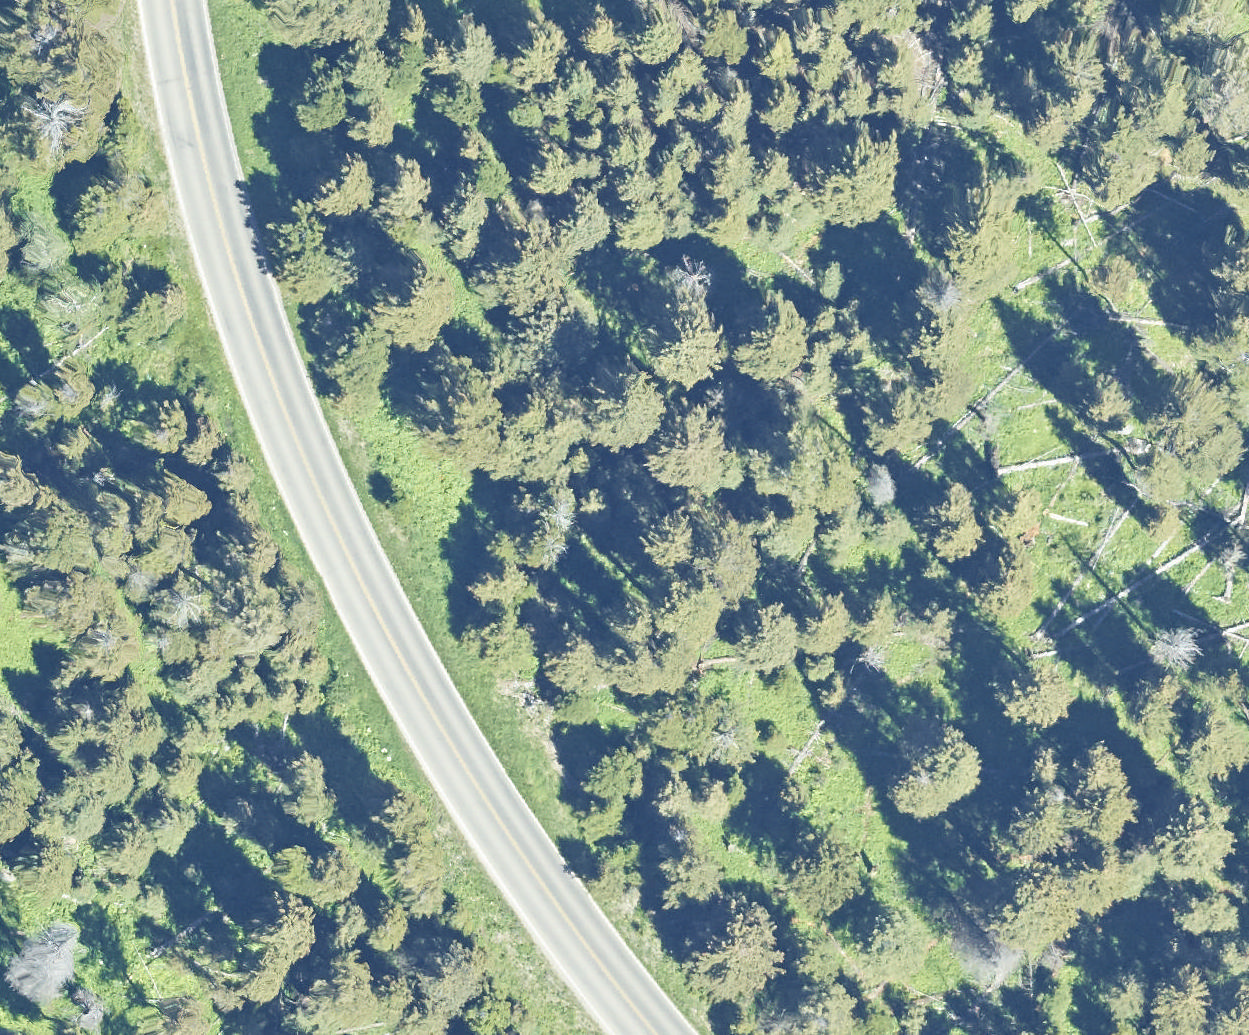Tree: (697, 899, 786, 1001), (805, 135, 898, 230), (725, 283, 809, 378), (490, 205, 568, 304), (1158, 793, 1240, 878), (415, 365, 491, 450), (376, 269, 452, 346), (592, 373, 666, 446), (658, 409, 722, 490), (947, 211, 1014, 287), (1158, 376, 1229, 447), (652, 312, 721, 381), (319, 322, 385, 390), (698, 513, 762, 583), (437, 11, 497, 83), (858, 905, 924, 970), (788, 841, 854, 905), (86, 616, 146, 683), (1010, 659, 1071, 722), (313, 150, 373, 213), (787, 927, 845, 991), (975, 557, 1036, 617), (1191, 710, 1249, 774), (873, 380, 924, 451), (1152, 964, 1205, 1032), (502, 422, 563, 481), (641, 511, 699, 574), (67, 189, 129, 245), (795, 593, 850, 653), (739, 612, 797, 668), (922, 736, 978, 793), (753, 448, 813, 501), (381, 154, 434, 214), (273, 1, 335, 52), (909, 308, 960, 370), (967, 934, 1024, 989), (287, 247, 349, 298), (695, 700, 745, 762), (660, 259, 719, 311), (520, 143, 575, 198), (1149, 623, 1202, 680), (395, 834, 446, 892), (419, 940, 474, 991), (1103, 968, 1149, 1028), (630, 9, 683, 62), (775, 501, 821, 562), (1077, 852, 1127, 907), (52, 575, 101, 631), (1138, 450, 1188, 503), (713, 145, 760, 200), (111, 819, 157, 876), (671, 859, 723, 908), (991, 495, 1033, 554), (376, 788, 431, 833), (614, 206, 665, 254), (562, 192, 610, 243), (1014, 803, 1064, 849), (542, 641, 592, 688), (849, 597, 898, 644), (965, 156, 1016, 201), (646, 701, 694, 749), (40, 523, 89, 569), (281, 589, 324, 642), (1081, 372, 1123, 425), (522, 518, 566, 567), (246, 587, 287, 640), (757, 82, 801, 132), (1005, 900, 1060, 940), (334, 956, 376, 1008), (822, 455, 862, 508), (580, 795, 620, 848), (25, 845, 72, 891), (481, 616, 526, 664), (348, 33, 389, 84), (1085, 792, 1132, 837), (705, 23, 749, 71), (1029, 102, 1073, 149), (938, 518, 981, 565), (443, 84, 488, 130), (333, 1, 389, 37), (1083, 749, 1130, 792), (159, 754, 205, 797), (485, 343, 528, 391), (369, 907, 417, 950), (518, 38, 559, 87), (757, 29, 799, 77), (276, 906, 315, 956), (242, 527, 284, 572), (709, 197, 750, 244), (51, 374, 97, 416), (161, 998, 212, 1035), (586, 750, 630, 793), (1207, 80, 1249, 125), (34, 102, 76, 147), (279, 207, 325, 249), (589, 844, 626, 896), (147, 403, 188, 449), (1209, 423, 1245, 474), (894, 768, 934, 815), (2, 456, 36, 509), (90, 759, 134, 801), (867, 521, 908, 565), (98, 710, 137, 756), (283, 793, 332, 830), (55, 707, 97, 749), (714, 81, 752, 127), (582, 12, 619, 59), (1133, 835, 1165, 889), (1099, 161, 1139, 202), (548, 401, 587, 444), (764, 217, 807, 255), (521, 294, 559, 337), (1060, 51, 1104, 89), (156, 529, 193, 573), (662, 818, 701, 860), (1093, 258, 1133, 300), (149, 800, 189, 841), (19, 233, 56, 277), (1175, 132, 1212, 176), (307, 59, 347, 100), (675, 52, 716, 91), (474, 161, 514, 201), (823, 529, 862, 569), (287, 747, 328, 786), (18, 378, 53, 422), (1209, 889, 1241, 938), (358, 109, 398, 147), (170, 484, 217, 517), (470, 995, 513, 1030), (538, 481, 582, 516), (1215, 990, 1249, 1035), (817, 262, 857, 301), (843, 83, 885, 119), (558, 688, 601, 723), (239, 962, 274, 1005), (1100, 123, 1142, 159), (106, 92, 139, 137), (173, 661, 210, 701), (1136, 701, 1172, 741), (653, 588, 687, 631), (668, 130, 705, 168), (216, 453, 253, 492), (819, 675, 857, 712), (62, 422, 99, 462), (316, 850, 354, 888), (202, 625, 241, 662), (1149, 93, 1188, 130), (935, 482, 971, 521), (756, 151, 792, 191), (47, 925, 81, 965), (1197, 671, 1229, 713), (136, 714, 172, 751), (802, 56, 834, 97), (1175, 893, 1206, 935), (1152, 667, 1189, 702), (864, 465, 896, 505), (1148, 500, 1184, 536), (955, 96, 992, 132), (1219, 241, 1249, 283), (512, 386, 547, 423), (813, 301, 846, 339), (172, 717, 204, 756), (279, 846, 313, 883), (688, 586, 724, 620), (100, 262, 128, 306), (295, 97, 331, 131), (567, 64, 601, 101), (165, 589, 202, 621), (612, 645, 649, 677), (653, 161, 687, 195), (648, 81, 684, 114), (810, 368, 841, 405), (888, 96, 929, 124), (1031, 869, 1073, 897), (1190, 458, 1221, 496), (128, 299, 158, 337), (671, 203, 701, 242), (387, 979, 421, 1012), (334, 914, 367, 948), (865, 1003, 900, 1035), (72, 988, 102, 1026), (1220, 43, 1249, 81), (301, 653, 334, 687), (500, 567, 532, 602), (653, 779, 688, 810), (653, 744, 689, 774), (767, 1012, 814, 1035), (140, 491, 172, 524), (885, 51, 915, 86), (1032, 752, 1067, 782), (225, 496, 258, 527), (101, 493, 132, 526), (190, 427, 219, 463), (270, 645, 296, 684), (1012, 161, 1041, 196), (719, 454, 747, 490), (78, 798, 103, 837), (932, 281, 968, 308), (159, 287, 189, 319), (575, 123, 607, 154), (686, 93, 718, 123), (612, 69, 640, 104), (128, 571, 159, 601), (617, 172, 648, 202), (126, 680, 155, 712), (511, 99, 545, 127), (452, 228, 480, 261), (967, 6, 994, 40), (454, 190, 479, 226), (656, 634, 685, 665), (491, 536, 520, 567), (101, 528, 133, 556), (468, 568, 495, 601), (926, 613, 961, 639), (1007, 1, 1043, 26), (635, 126, 660, 161), (1218, 945, 1248, 974), (1076, 1, 1105, 31), (546, 83, 575, 113), (803, 25, 830, 57), (39, 810, 69, 838), (702, 782, 730, 812), (760, 721, 787, 751), (579, 155, 605, 186), (613, 104, 645, 129), (1224, 317, 1249, 350), (726, 1007, 754, 1035), (783, 781, 811, 809), (803, 94, 828, 125), (755, 505, 781, 534), (824, 986, 855, 1010), (612, 132, 636, 163), (262, 944, 287, 973), (1072, 90, 1094, 121), (454, 903, 476, 935), (271, 683, 297, 710), (55, 774, 80, 802), (391, 488, 415, 517), (220, 697, 245, 724), (1192, 340, 1218, 365), (514, 482, 534, 513), (145, 889, 168, 917), (943, 16, 964, 46), (297, 688, 322, 712), (830, 1013, 858, 1035), (97, 385, 119, 413), (726, 772, 749, 798), (949, 66, 976, 88), (400, 12, 426, 34), (135, 762, 156, 789), (1223, 670, 1243, 698), (809, 653, 833, 676), (401, 40, 425, 63), (846, 322, 868, 346), (631, 614, 652, 639), (585, 490, 607, 514), (572, 452, 592, 478), (75, 876, 95, 901), (905, 1004, 925, 1029), (248, 690, 268, 716), (704, 387, 726, 410), (233, 671, 256, 692), (217, 987, 238, 1010), (766, 195, 787, 216), (829, 331, 847, 356), (399, 67, 420, 88), (811, 341, 830, 364), (1224, 548, 1241, 572), (630, 738, 649, 758), (549, 117, 568, 137), (120, 877, 139, 896), (243, 649, 261, 667), (803, 996, 821, 1014), (966, 47, 986, 63), (136, 527, 155, 543), (595, 654, 618, 668), (1048, 784, 1063, 802), (104, 882, 116, 898), (589, 110, 603, 123)
